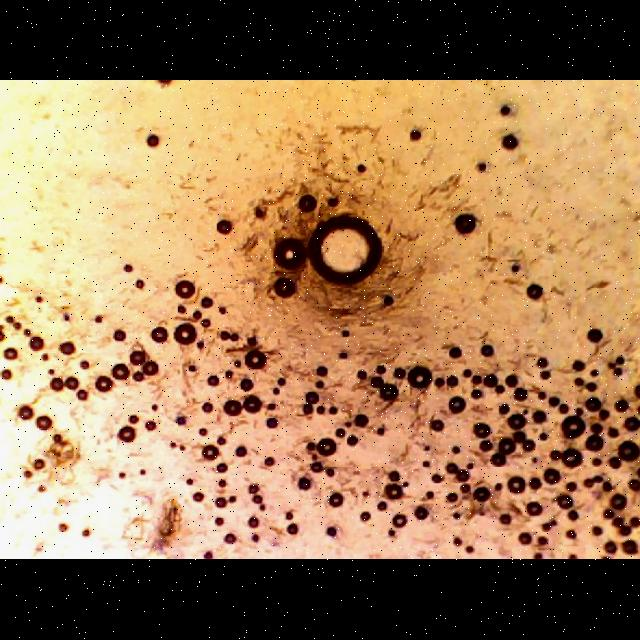microbeads: (308, 216, 382, 286), (269, 236, 309, 274), (407, 364, 433, 394), (562, 416, 586, 440), (174, 322, 196, 346), (174, 280, 196, 304)
